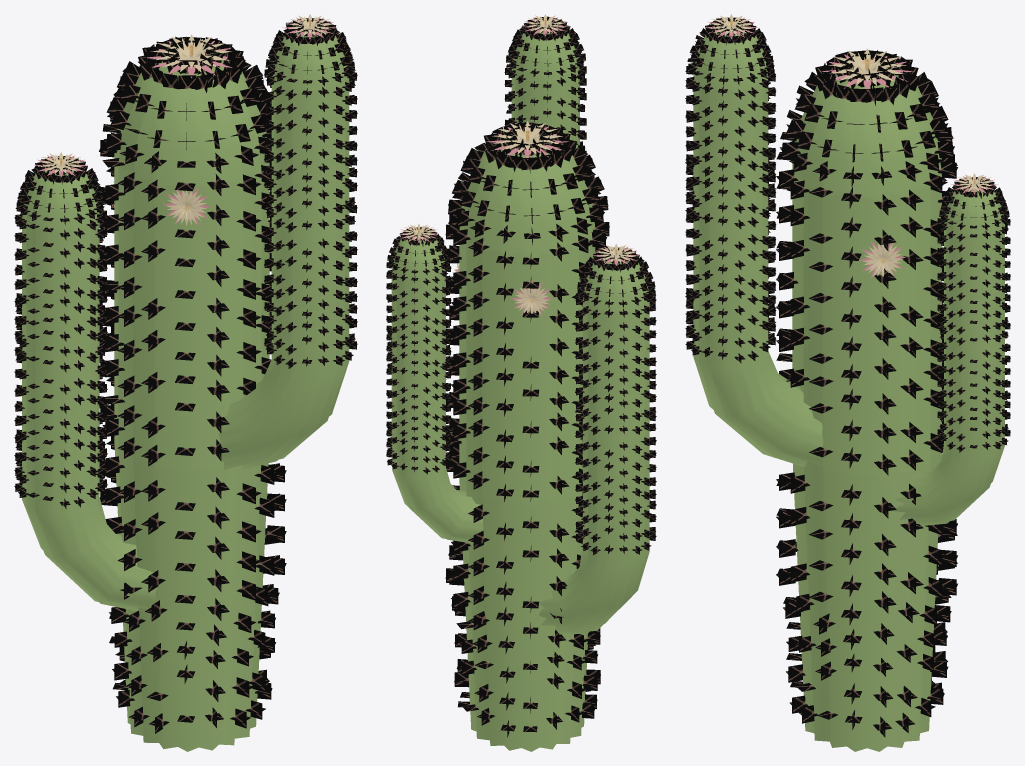
Rendered from cactus.glb.
The picture shows the model from 3 angles, left to right: view 1: azimuth 30°, elevation 25°; view 2: azimuth 150°, elevation 25°; view 3: azimuth 270°, elevation 25°; orthographic projection. The views are drawn at different scales.
Parts seen in each view (by area): view 1: cactus, cactus.001, cactus.002, Cube, Cube.005, Cube.003, Cube.002; view 2: cactus, cactus.002, cactus.003, cactus.001, Cube, Cube.004, Cube.003, Cube.002; view 3: cactus, cactus.001, cactus.003, Cube, Cube.006, Cube.002.
Part boxes in pixels (<box>): cactus: <box>99,36,286,751</box>; cactus.001: <box>218,18,357,469</box>; cactus.002: <box>14,156,156,611</box>; Cube: <box>143,34,240,77</box>; Cube.005: <box>163,186,210,225</box>; Cube.003: <box>34,152,87,177</box>; Cube.002: <box>282,14,337,39</box>; cactus: <box>445,122,609,751</box>; cactus.002: <box>539,247,656,634</box>; cactus.003: <box>386,227,483,543</box>; cactus.001: <box>504,16,586,152</box>; Cube: <box>485,121,569,159</box>; Cube.004: <box>510,280,553,315</box>; Cube.003: <box>592,244,639,265</box>; Cube.002: <box>521,14,569,36</box>; cactus: <box>776,50,957,751</box>; cactus.001: <box>685,17,823,466</box>; cactus.003: <box>893,177,1010,525</box>; Cube: <box>820,48,914,91</box>; Cube.006: <box>859,241,905,278</box>; Cube.002: <box>705,14,757,38</box>.
Size of what is drawn, in the model's own units: 0.9559 by 2.64 by 1.07.
1 material, 1 textured.
